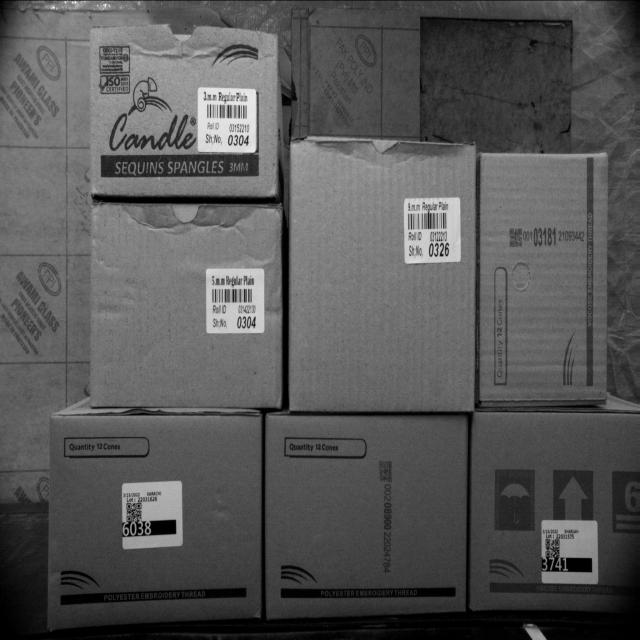cardboxes: (290, 141, 478, 412), (45, 412, 266, 632), (264, 414, 469, 626), (92, 200, 284, 410), (469, 412, 640, 610), (478, 152, 608, 411), (92, 28, 280, 200)
